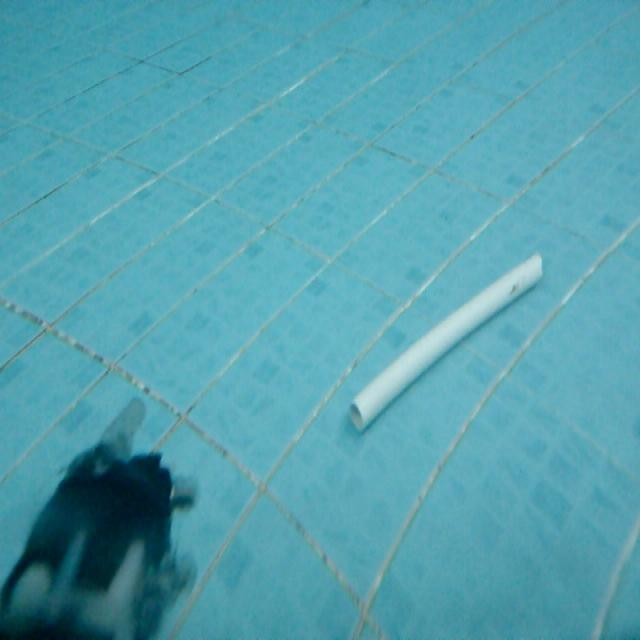Cube: (344, 246, 545, 434)
